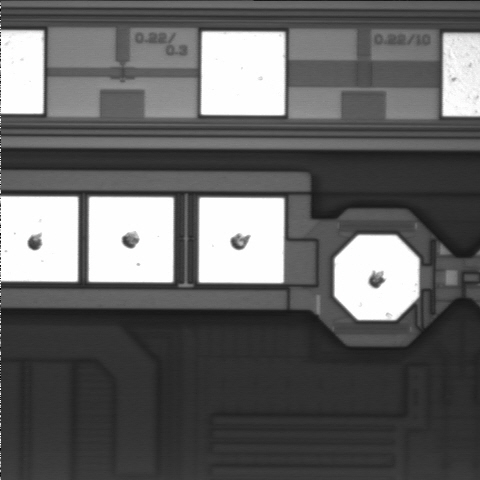pad: (89, 197, 174, 282), (199, 198, 284, 283), (334, 235, 419, 320), (201, 32, 285, 115)
